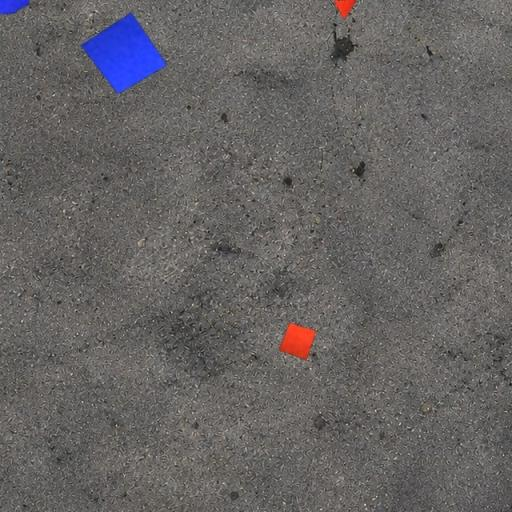BLUE_SQUARE: (80, 12, 168, 94)
RED_SQUARE: (278, 322, 317, 361)
